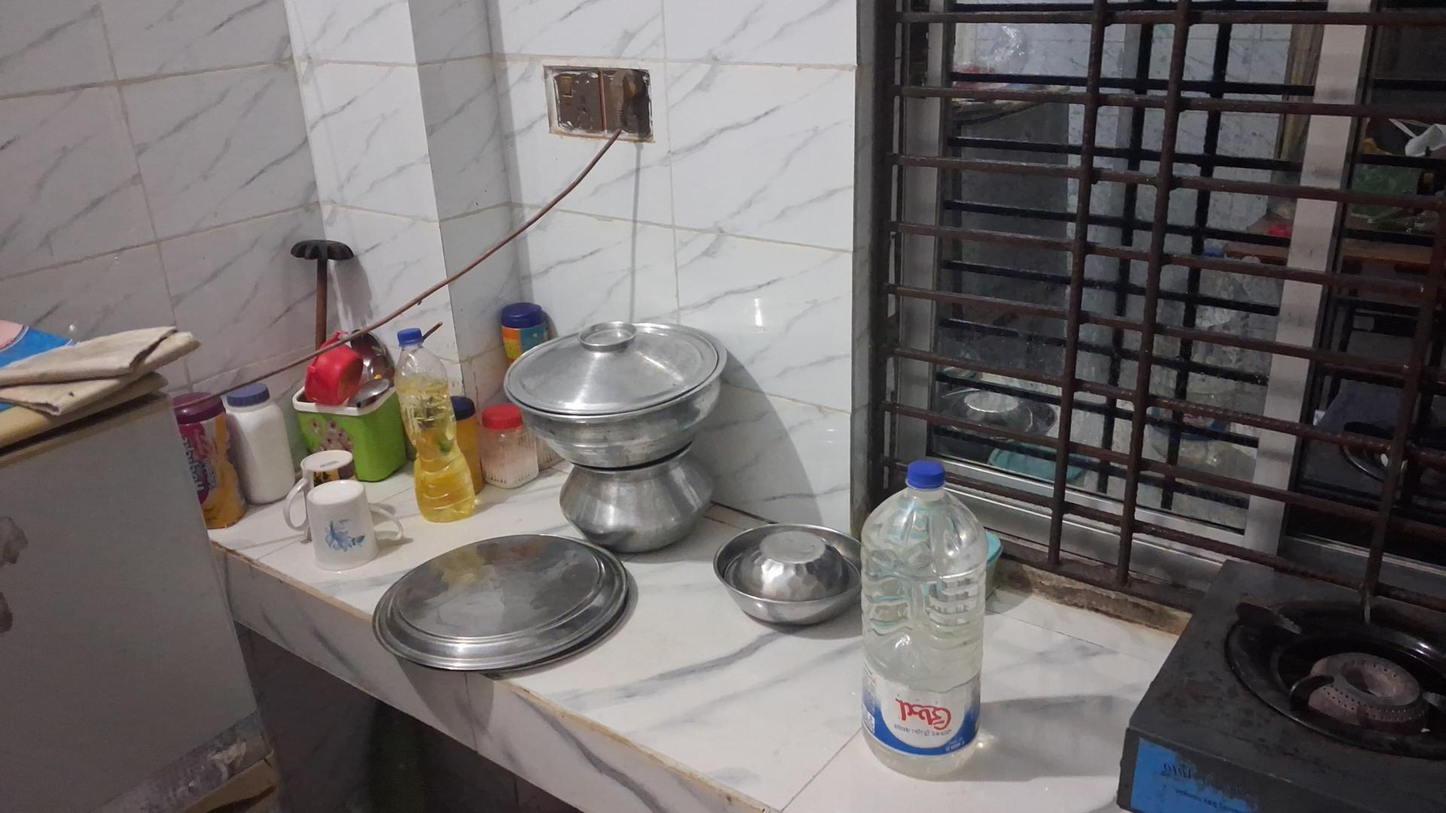Bottle: (866, 459, 983, 775), (395, 331, 476, 523)
Bowl: (711, 520, 871, 624)
Cup: (304, 484, 404, 566)
Jar: (172, 394, 243, 527), (225, 387, 294, 504), (480, 405, 538, 489)
Plate: (375, 534, 627, 670)
Pot: (505, 321, 728, 468), (555, 460, 714, 549)
